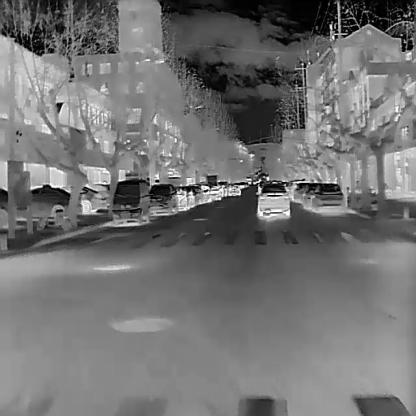car: (25, 184, 80, 220), (110, 178, 150, 226), (56, 184, 103, 212), (254, 181, 290, 215), (310, 183, 345, 213), (146, 182, 177, 215), (290, 180, 324, 202), (301, 182, 320, 210), (174, 186, 187, 210), (183, 185, 196, 207), (192, 185, 204, 204), (228, 184, 239, 195)
